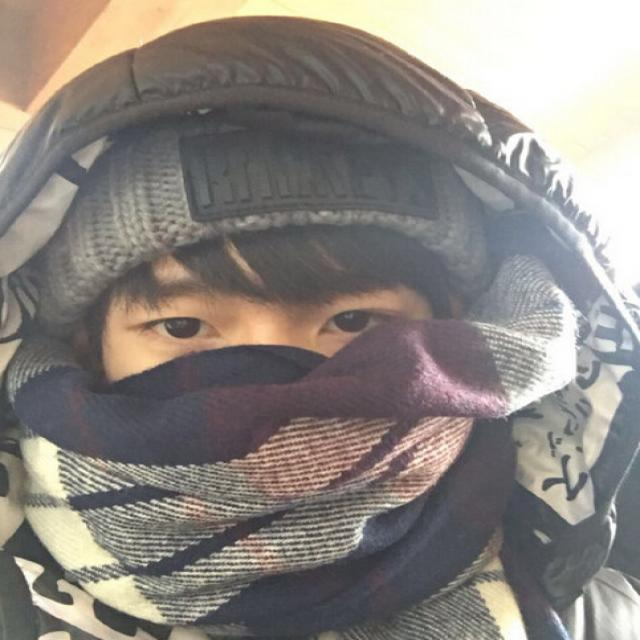nomask: (89, 201, 420, 563)
